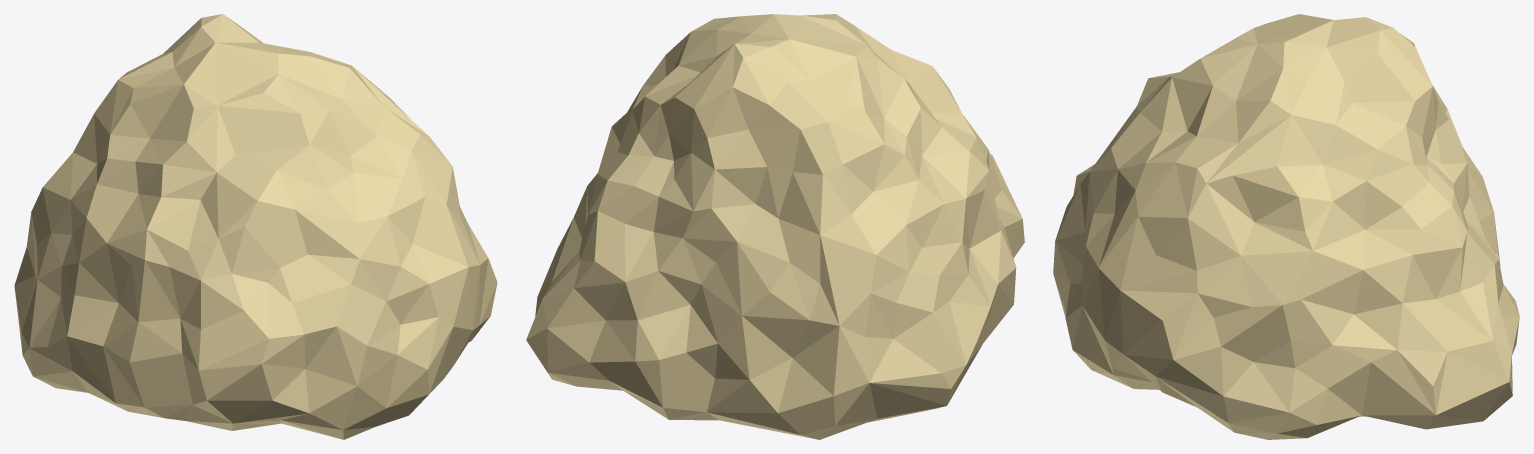
Rendered from Asteroid (5).fbx.
3 views of the same model, side by side, from view 1: azimuth 30°, elevation 25°; view 2: azimuth 150°, elevation 25°; view 3: azimuth 270°, elevation 25° (orthographic). The views are drawn at different scales.
Visible parts, largest first — view 1: Asteroid170; view 2: Asteroid170; view 3: Asteroid170.
Part boxes in pixels (x1,y1,x2,y2): Asteroid170: (14,14,497,439); Asteroid170: (526,14,1024,439); Asteroid170: (1053,14,1519,439).
Bounding box in the file's own units: 399 × 315 × 396.
